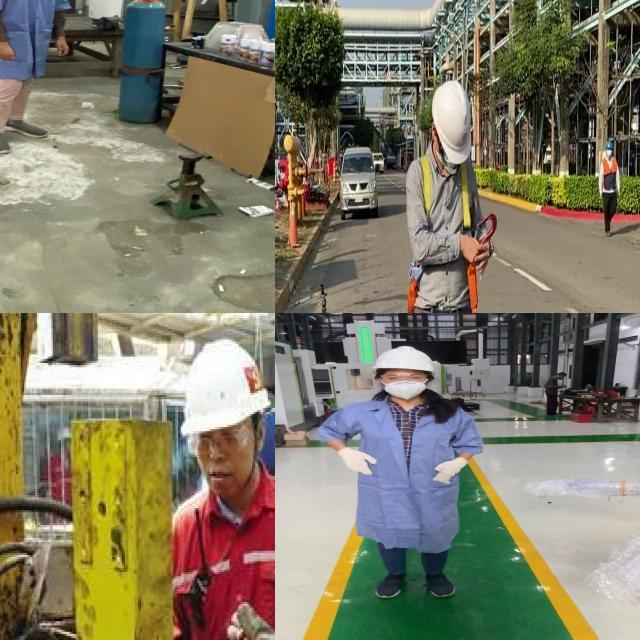Harness: (460, 264, 478, 313), (408, 279, 418, 313)
face_mask: (380, 372, 432, 400)
face_nomask: (190, 427, 245, 488)
glasses: (184, 430, 251, 459), (374, 369, 430, 384)
hand_glove: (334, 446, 384, 481), (428, 456, 471, 484)
hand_noglove: (50, 39, 73, 59), (0, 41, 18, 62)
head_helmet: (171, 339, 275, 438), (368, 344, 437, 373)
person: (312, 342, 511, 608), (160, 335, 275, 640), (0, 0, 80, 159)
shoes: (414, 568, 460, 600), (367, 569, 412, 601), (0, 116, 54, 140), (0, 129, 13, 156)
